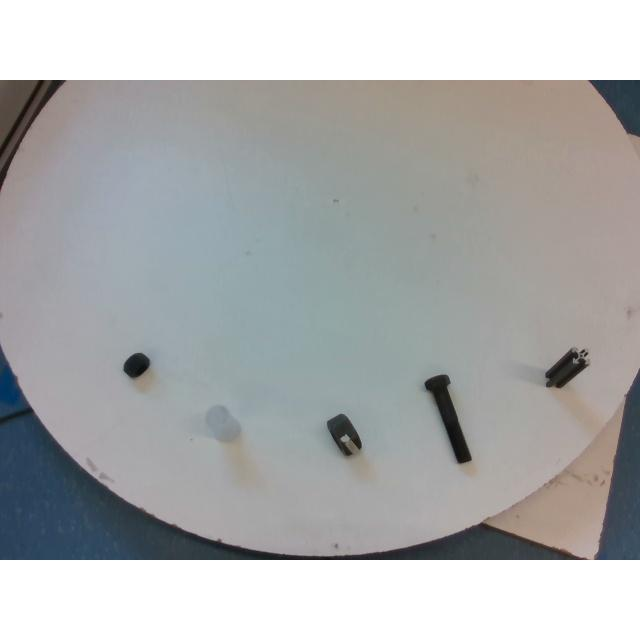F20_20_B: (544, 347, 588, 387)
M20: (123, 353, 149, 377)
M20_100: (425, 374, 471, 462)
M30: (327, 414, 361, 454)
Spacer: (204, 404, 240, 440)
